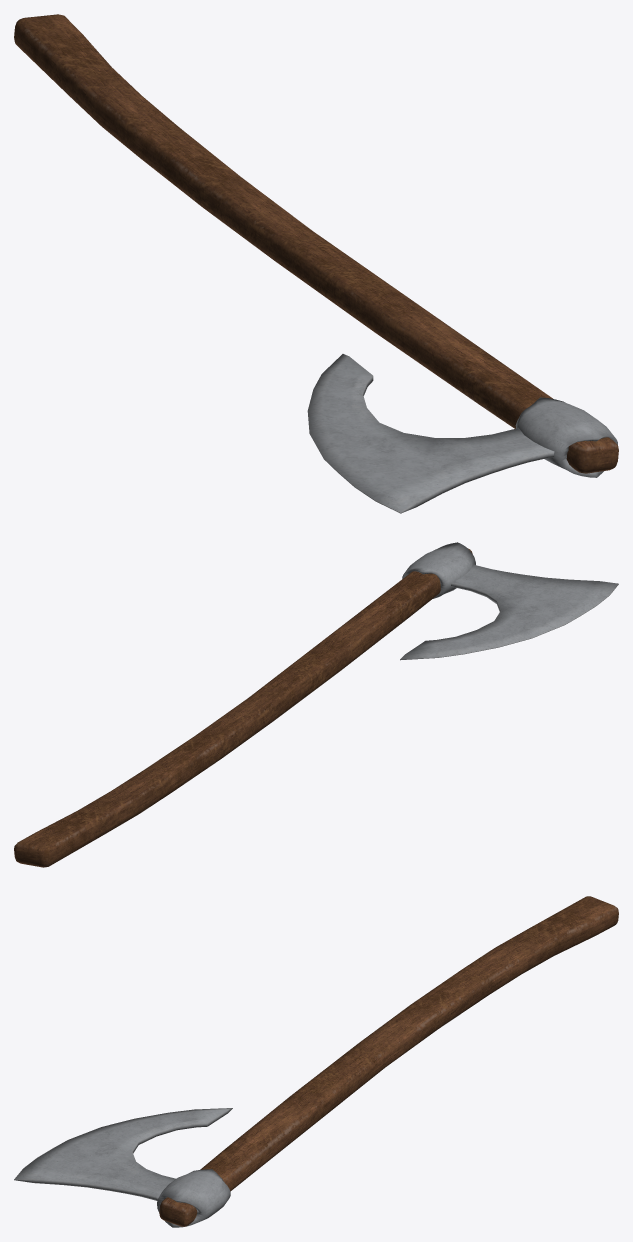
The model's file is BattleAxe.fbx.
3 views of the same model, one above another, from view 1: azimuth 30°, elevation 25°; view 2: azimuth 150°, elevation 25°; view 3: azimuth 330°, elevation 25° (orthographic). The views are drawn at different scales.
Parts seen in each view (by area): view 1: BattleAxe; view 2: BattleAxe; view 3: BattleAxe.
Part boxes in pixels (x1,y1,x2,y2): BattleAxe: (14,14,618,513); BattleAxe: (14,542,618,867); BattleAxe: (14,896,618,1227).
Size of the model in its own units: 22.68 by 3.8 by 89.66.
